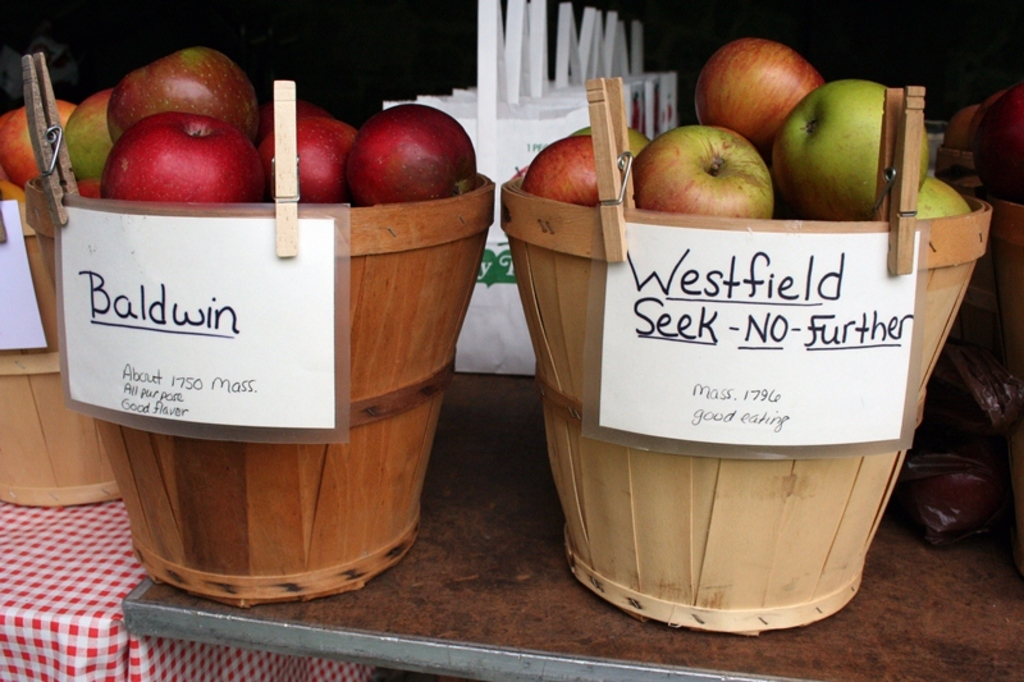Apple: (518, 38, 972, 221), (0, 43, 481, 207), (638, 118, 789, 218), (977, 84, 1022, 202)
